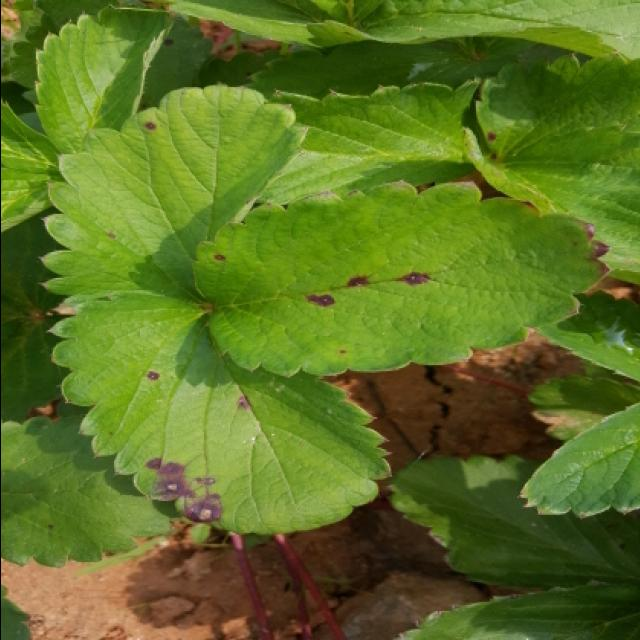Leaf Spot: (45, 292, 392, 536), (189, 181, 610, 379), (38, 85, 309, 308), (462, 44, 640, 286)
